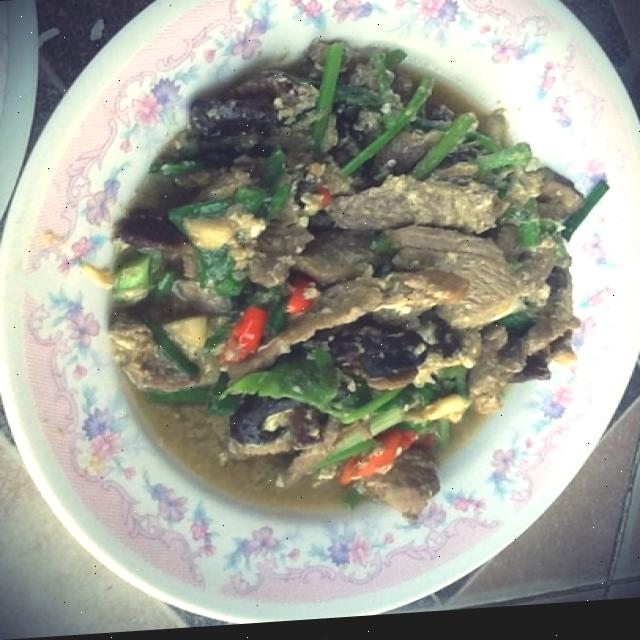牛肉菜式: (20, 0, 640, 626)
